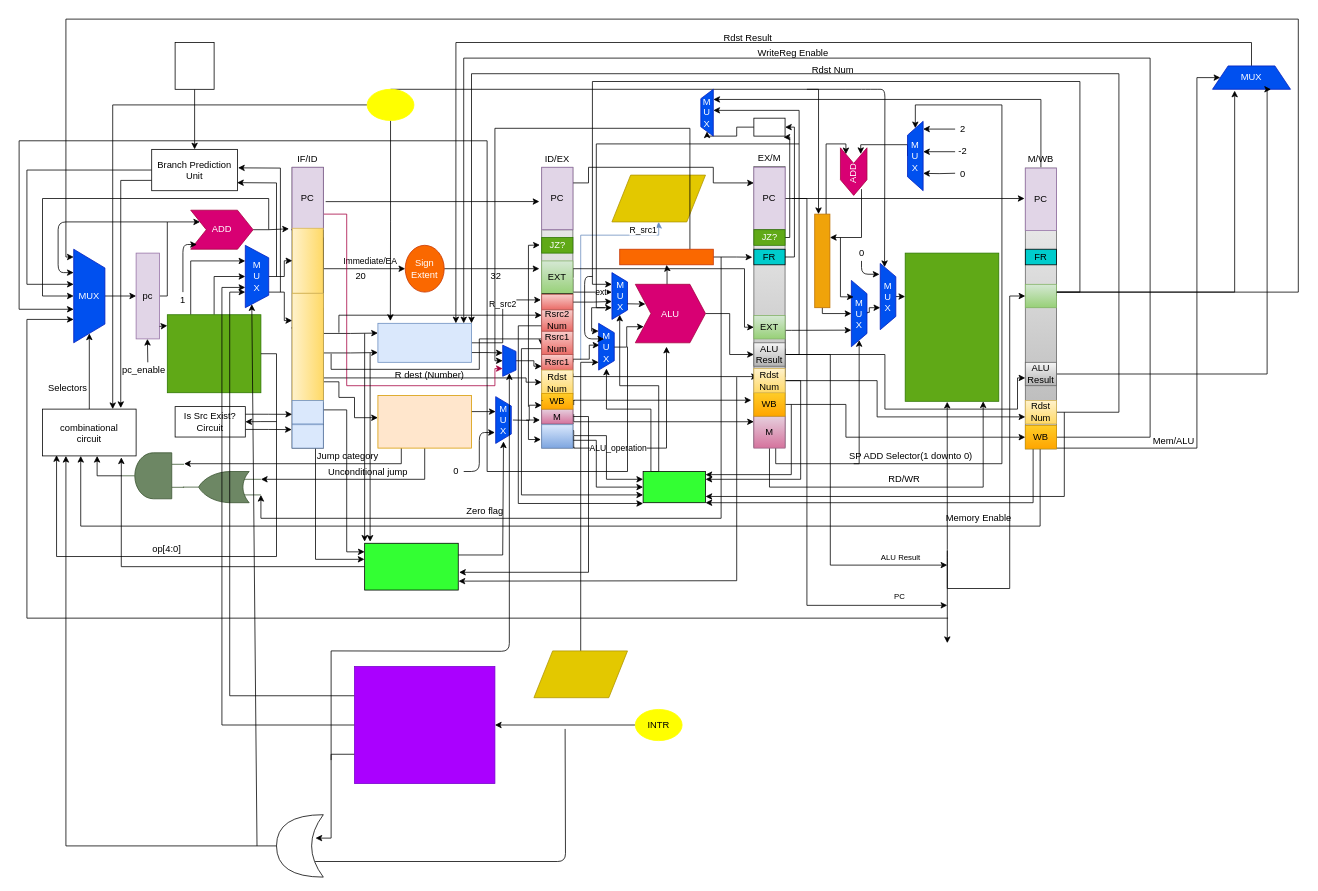
The diagram is 1318 pixels wide and 891 high, and some of its shapes have lost their labels. Here are the shapes that lost their labels. From the top down, the centre of each, then its label:
point (194, 65): Cache Memory
point (390, 105): Reset
point (658, 198): OUTPUT_PORT
point (307, 260): Instruction falling
point (666, 256): Flag Register
point (822, 260): SP
point (557, 302): Rsrc2
point (1041, 296): Mem Result
point (424, 342): Register File
point (951, 326): Data Memory
point (214, 353): Instruction memory
point (307, 347): Instruction rising
point (307, 412): Src1 ?
point (424, 421): Decoding circuit
point (307, 436): Src2 ?
point (557, 436): EX
point (674, 487): Forwarding Unit
point (411, 566): Hazard Detection Unit
point (580, 674): INPUT_PORT
point (424, 725): Interrupt module
point (299, 845): OR
